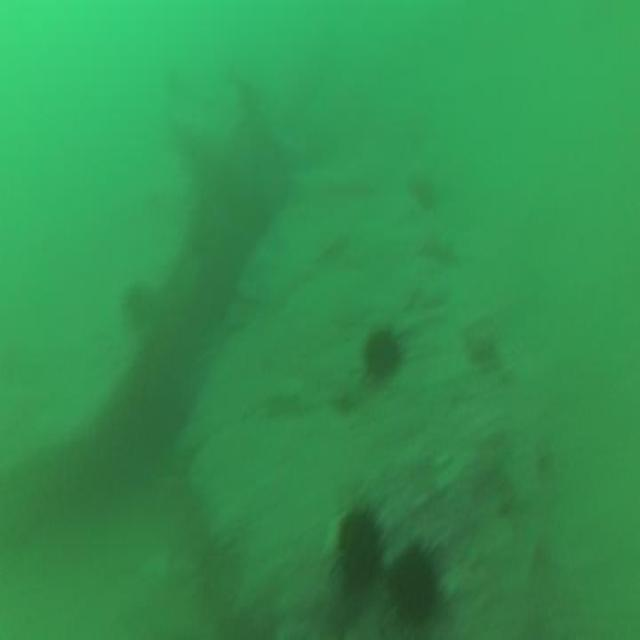echinus: (377, 529, 451, 632), (331, 493, 385, 602), (356, 318, 410, 397)
